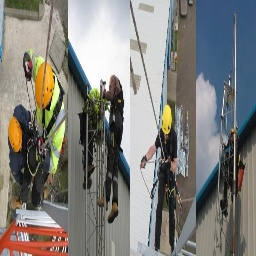helmet: (34, 62, 53, 109), (9, 118, 22, 152), (161, 104, 172, 135)
